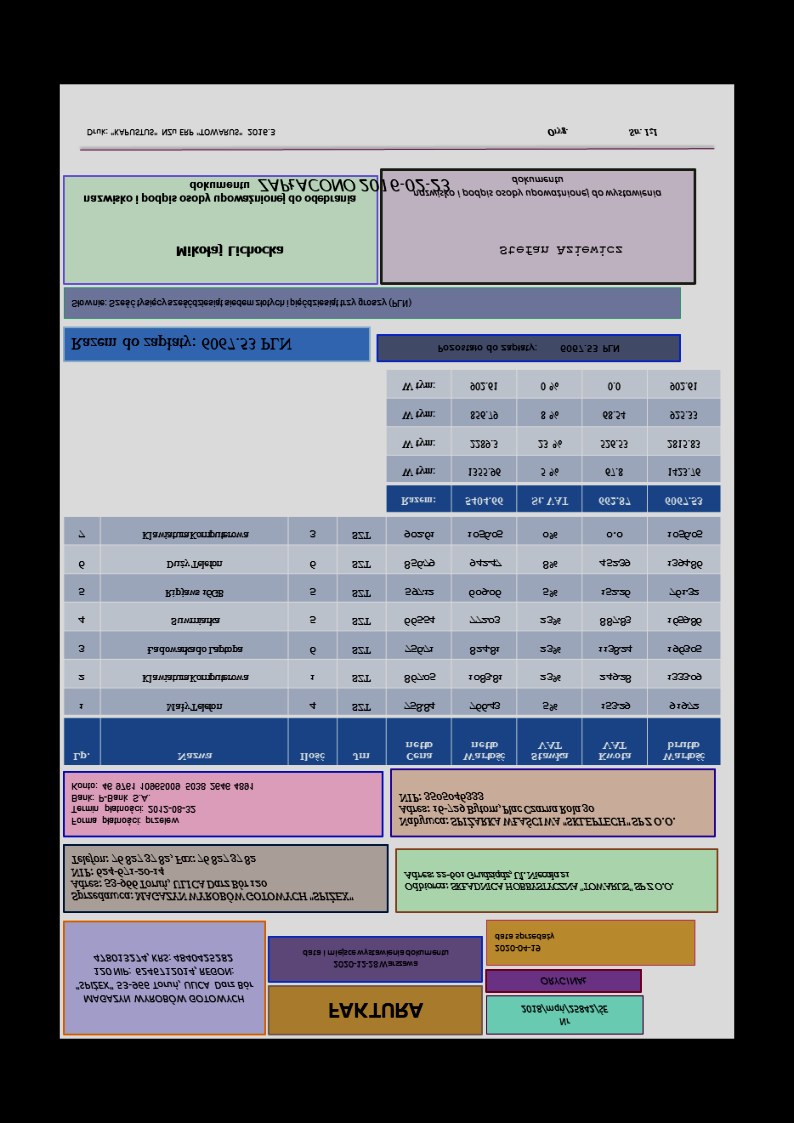Table: (62, 514, 723, 768), (384, 368, 721, 513)
TextBox: (69, 850, 356, 907), (397, 789, 678, 831), (73, 950, 255, 1007), (69, 780, 256, 829), (80, 179, 355, 205), (401, 869, 674, 895), (412, 174, 663, 202), (70, 296, 412, 312), (68, 332, 294, 355), (258, 173, 455, 196), (299, 945, 451, 972), (83, 125, 277, 141), (435, 341, 621, 355), (519, 1001, 609, 1028), (173, 242, 286, 263), (497, 242, 625, 258), (326, 1000, 426, 1020), (491, 927, 556, 956), (545, 127, 660, 140), (538, 973, 588, 989)
